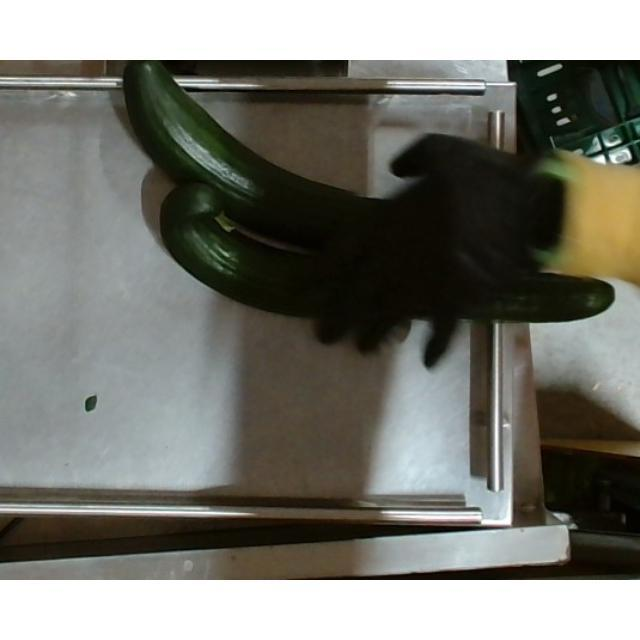cucumber: (124, 60, 482, 252), (160, 182, 616, 322)
